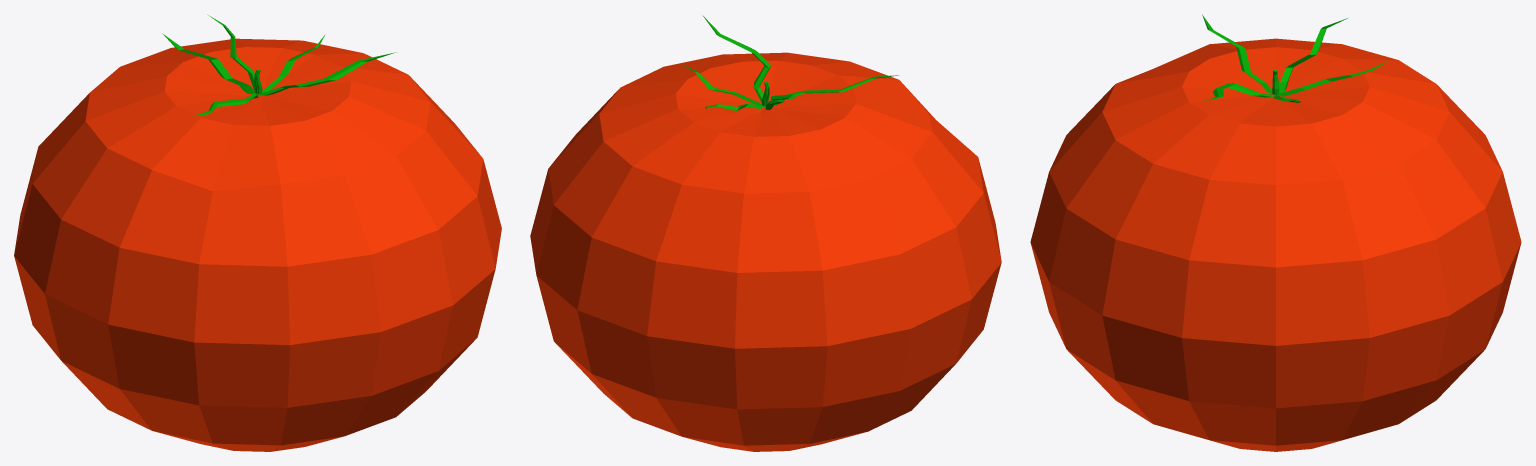
Rendered from Tomato.fbx.
The picture shows the model from 3 angles, left to right: view 1: azimuth 30°, elevation 25°; view 2: azimuth 150°, elevation 25°; view 3: azimuth 270°, elevation 25°; orthographic projection. The views are drawn at different scales.
Parts seen in each view (by area): view 1: Tomato; view 2: Tomato; view 3: Tomato.
Boxes of the visible parts, x1,y1,x2,y2 form: Tomato: [14, 14, 501, 451]; Tomato: [530, 15, 1001, 451]; Tomato: [1030, 14, 1521, 451].
Bounding box in the file's own units: 38.37 × 32.77 × 38.37.
